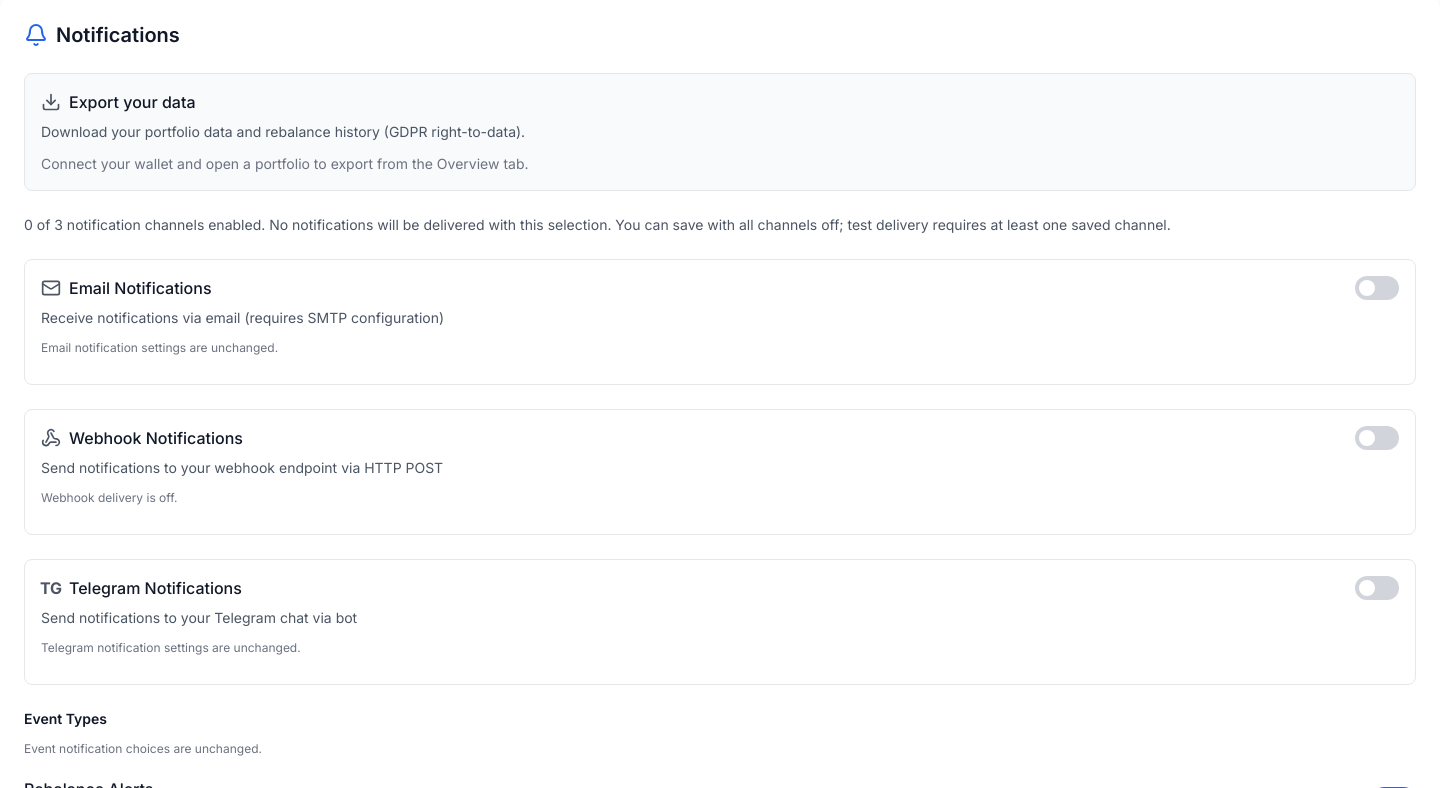
Test case: NotificationPreferences › shows required-field validation when the only enabled channel is missing its address
The image size is (1440, 788).
Expected: the heading "Notifications" is shown, x1=56 y1=21 x2=180 y2=49
Click the switch named "email notifications": (1377,288) x1=1355 y1=276 x2=1399 y2=300
(page scrolled)
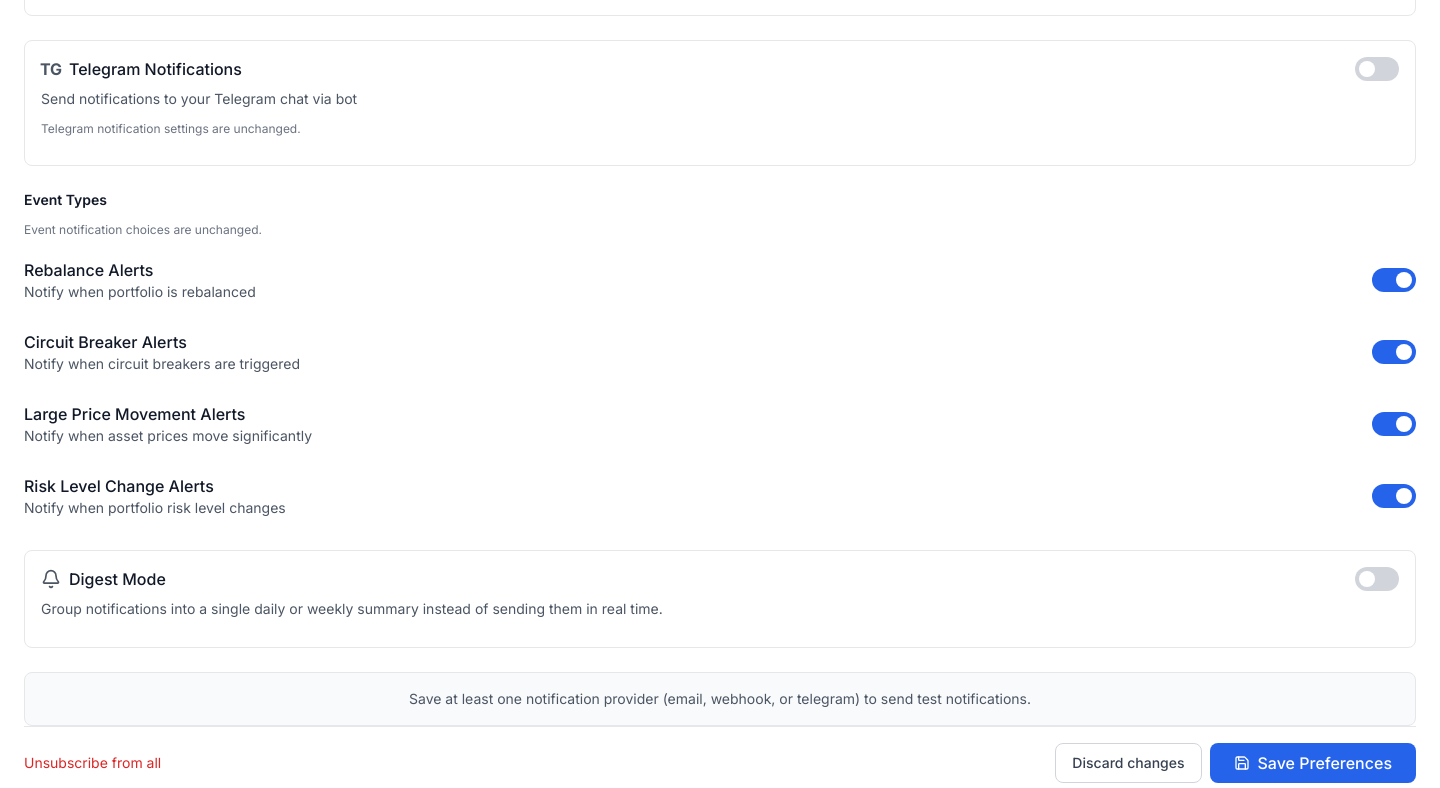
Click the button "Save Preferences": (1313,763) x1=1210 y1=743 x2=1416 y2=783
(page scrolled)
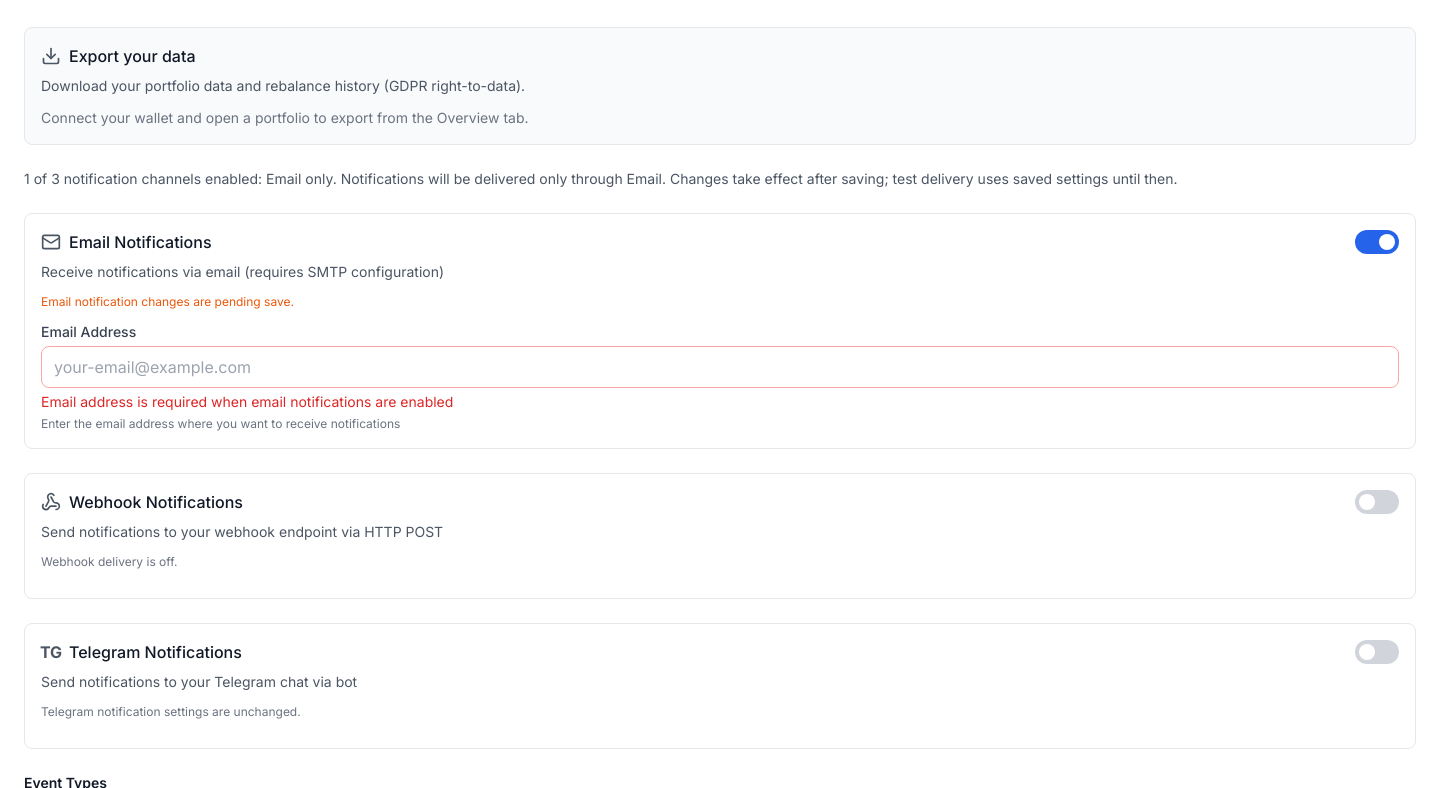
Expected: the text "Email address is required when email notifications are enabled" is shown, x1=41 y1=393 x2=453 y2=410
